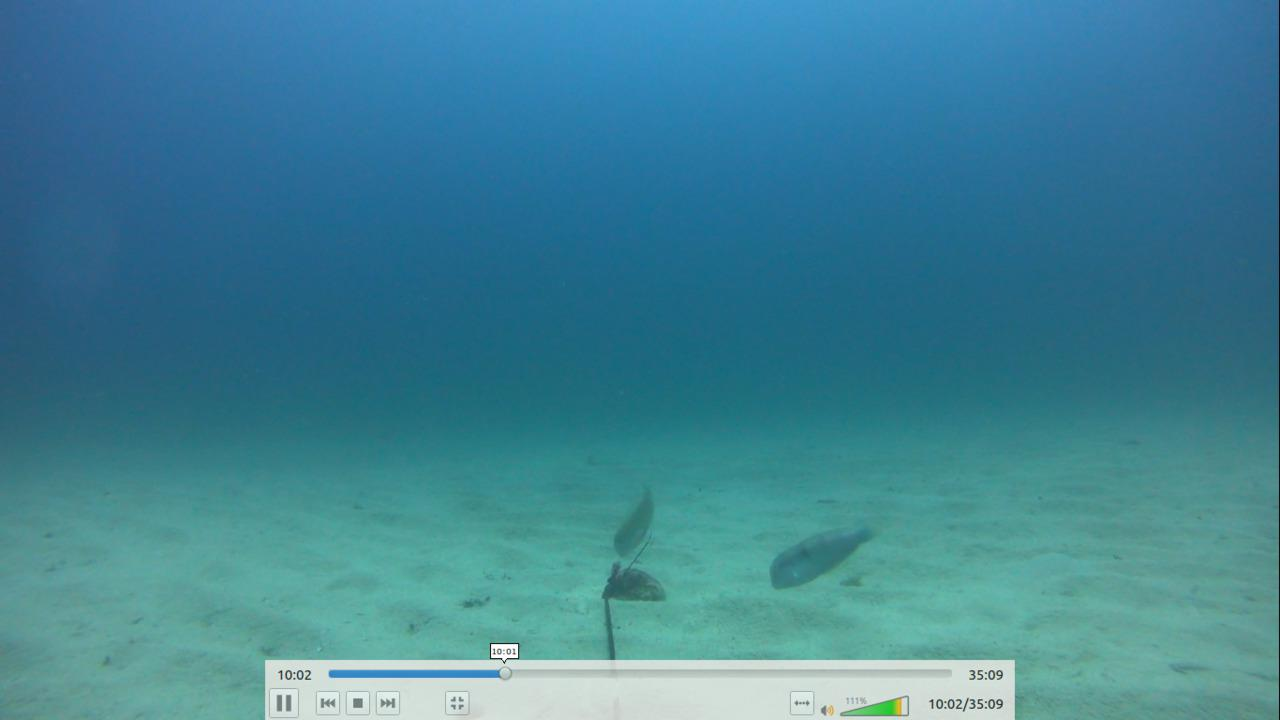raor: (764, 524, 882, 593), (607, 484, 660, 558)
